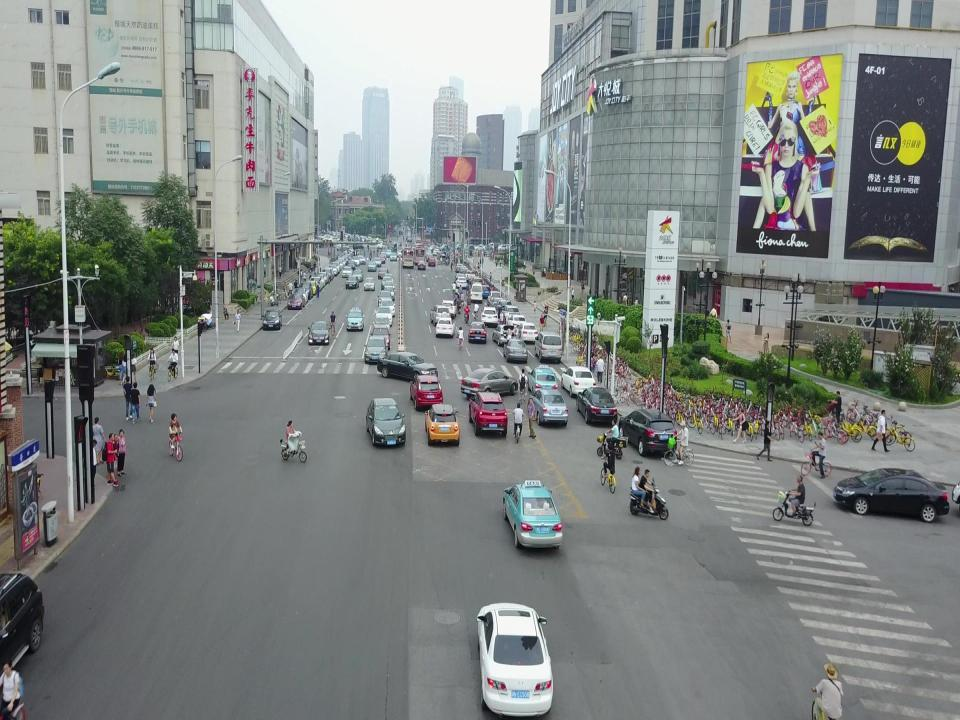car: (472, 602, 556, 717), (833, 467, 935, 518), (0, 571, 44, 689), (502, 480, 565, 552), (617, 418, 677, 454), (365, 398, 406, 448), (376, 352, 440, 382), (467, 390, 508, 435), (459, 368, 519, 398), (528, 387, 568, 428), (424, 403, 459, 445), (410, 374, 444, 411), (527, 364, 560, 397), (362, 336, 388, 366), (502, 338, 528, 362), (369, 326, 392, 352), (308, 320, 330, 345), (261, 308, 282, 332), (345, 307, 365, 331), (371, 315, 390, 333), (373, 307, 393, 323), (376, 304, 396, 315)
van: (533, 332, 563, 362)
